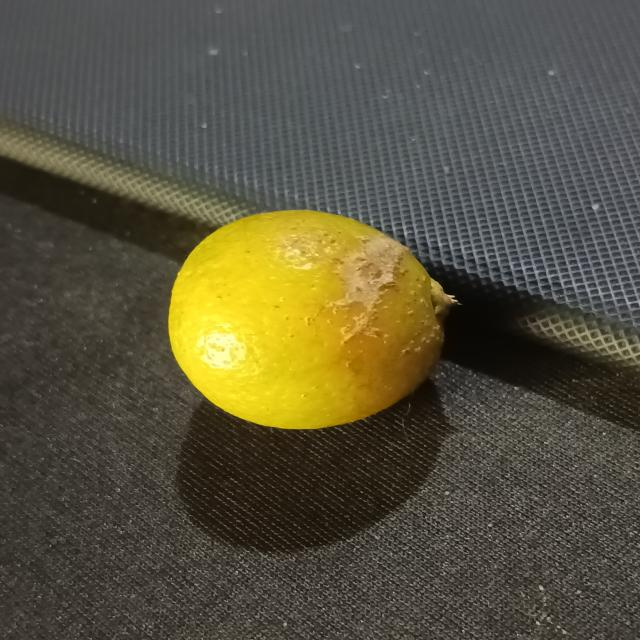thrips: (166, 210, 456, 430)
